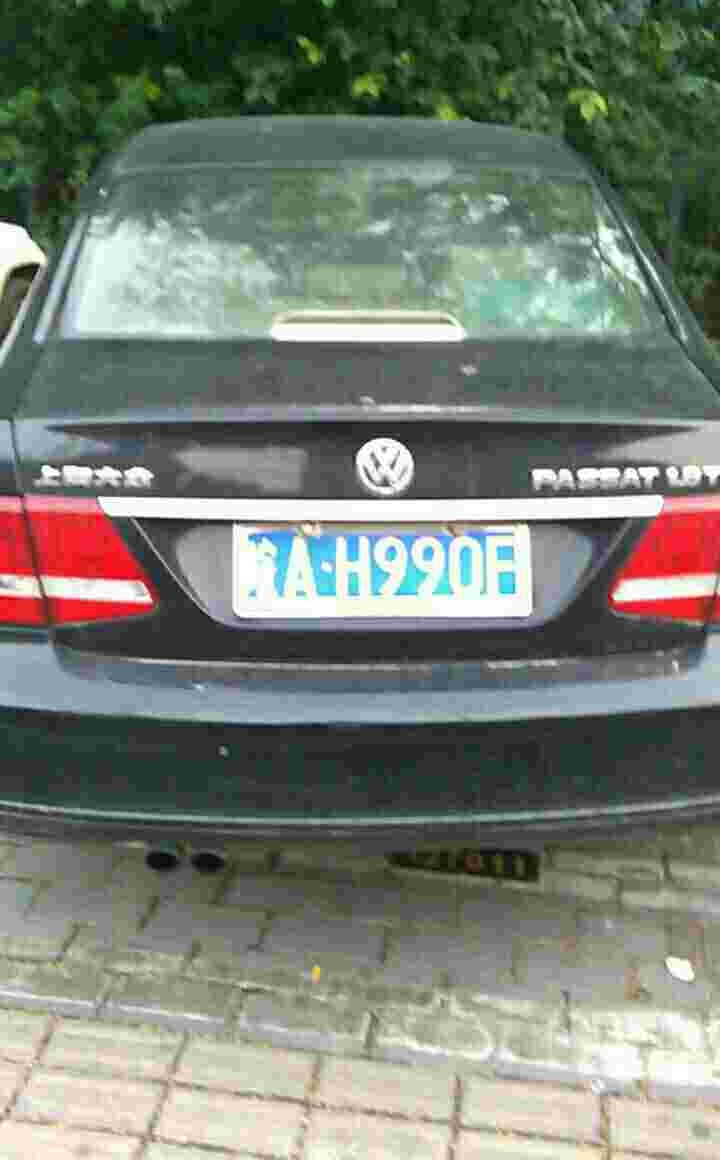car: (227, 513, 544, 620)
